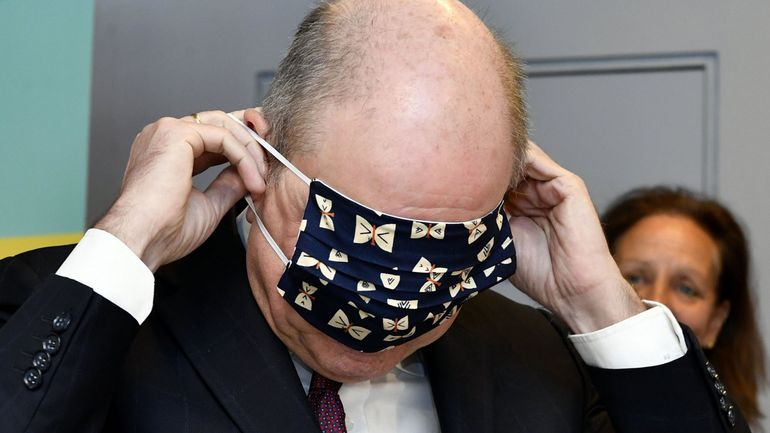with_incorrect_mask: (293, 17, 501, 379)
